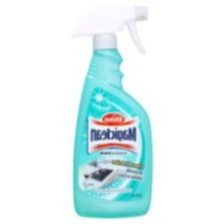cleaning_solution: (70, 3, 154, 221)
